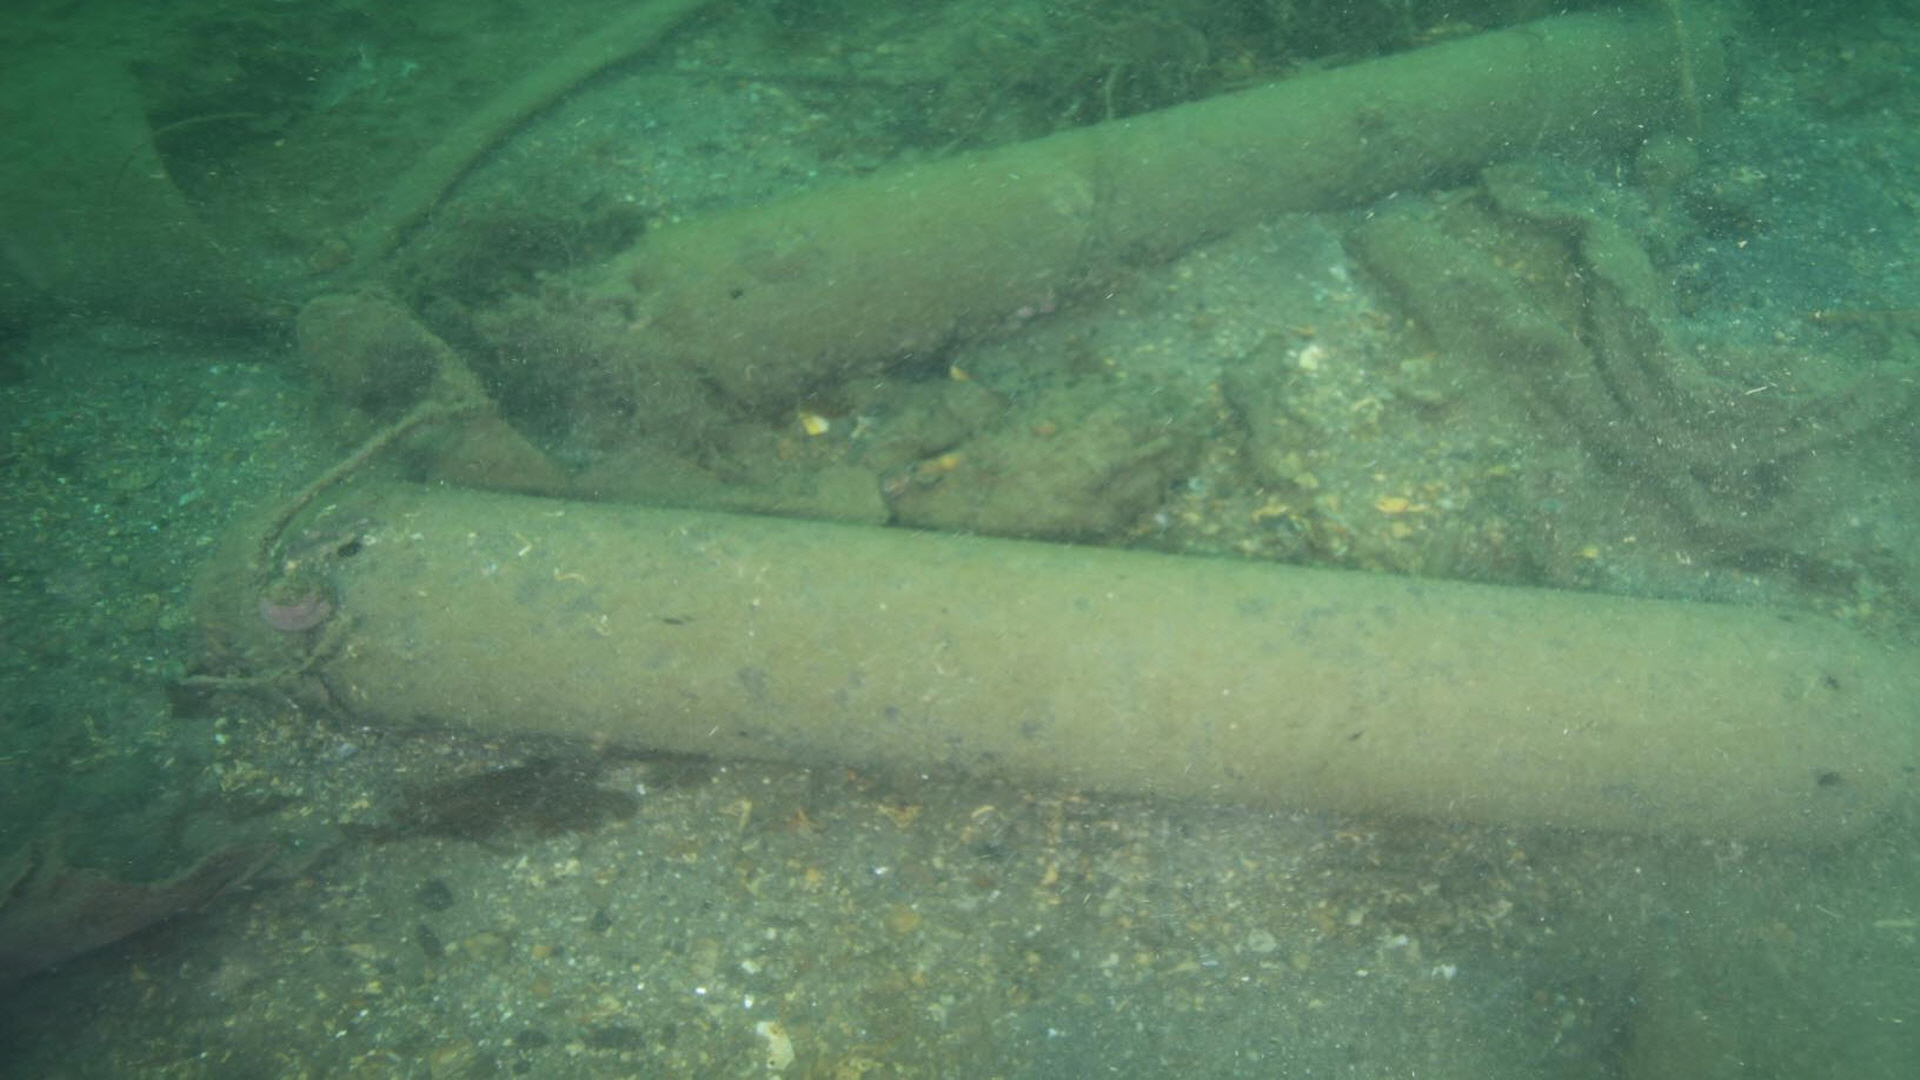bundle of ropes: (177, 386, 495, 695)
eel fish trap: (193, 483, 1916, 857), (593, 0, 1753, 405)
